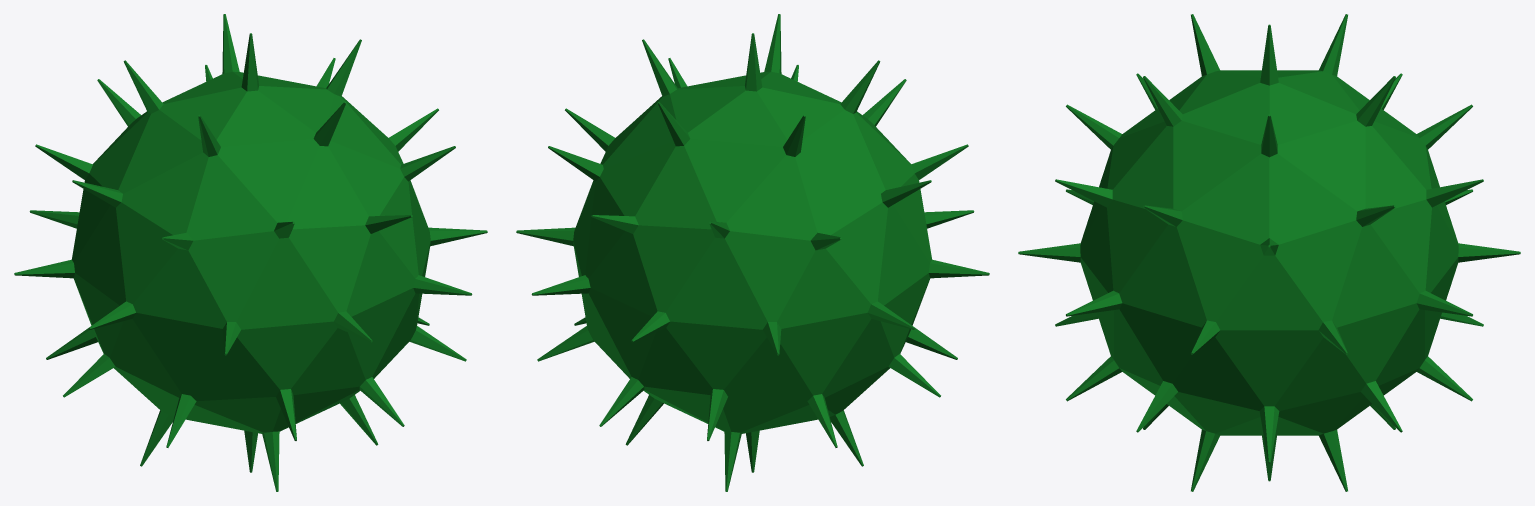
The model's file is metal spike ball.fbx.
3 renders of one model, left to right at view 1: azimuth 30°, elevation 25°; view 2: azimuth 150°, elevation 25°; view 3: azimuth 270°, elevation 25°, orthographic. The views are drawn at different scales.
Parts seen in each view (by area): view 1: Icosphere; view 2: Icosphere; view 3: Icosphere.
Part boxes in pixels (left/top/right/bottom): Icosphere: left=14, top=14, right=487, bottom=491; Icosphere: left=516, top=14, right=989, bottom=491; Icosphere: left=1018, top=14, right=1520, bottom=491.
Size of the model in its own units: 249 by 262 by 261.
